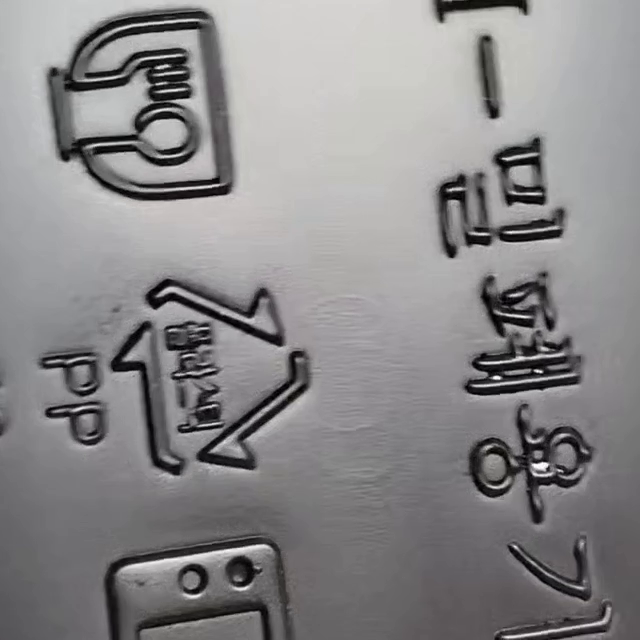Plastic: (111, 280, 313, 477)
